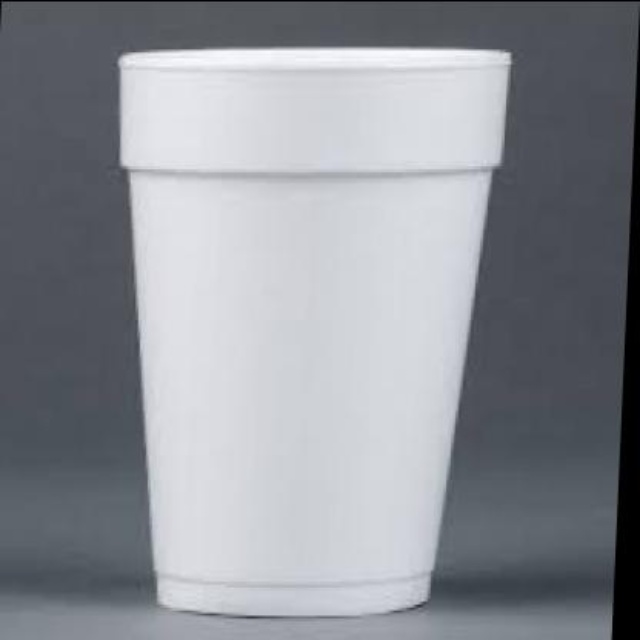trash: (120, 48, 509, 614)
